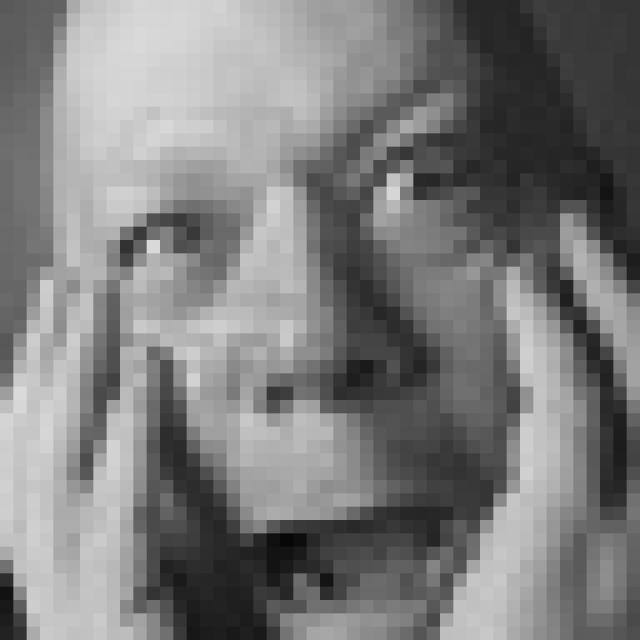fear: (93, 62, 526, 640)
